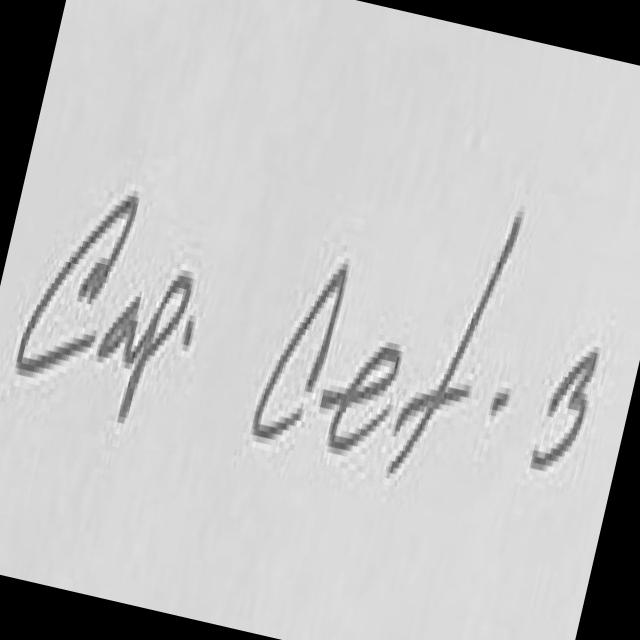3: (535, 353, 598, 468)
C: (15, 197, 136, 374), (253, 264, 346, 437)
a: (102, 297, 139, 360)
e: (321, 351, 399, 452)
f: (391, 218, 522, 476)
p: (121, 275, 192, 420)
